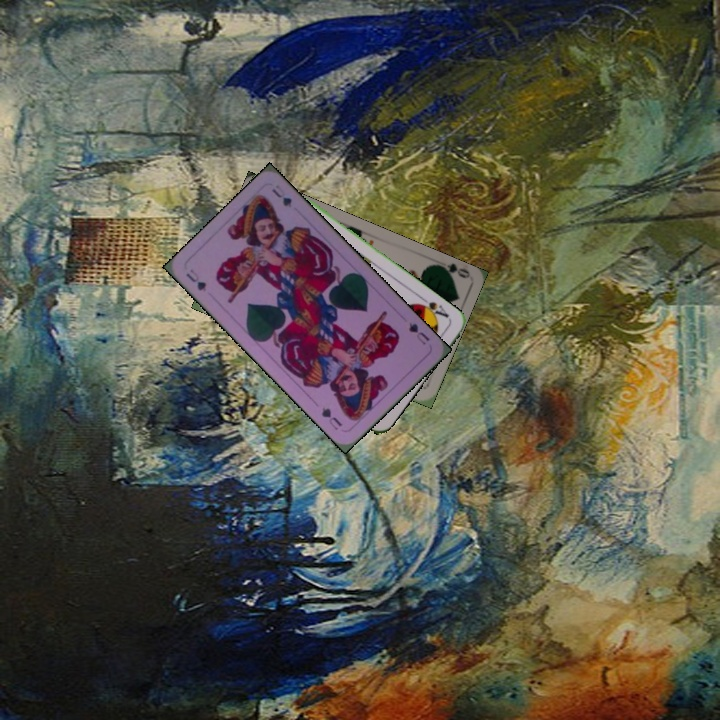GO: (430, 260, 471, 281)
GU: (404, 318, 432, 347), (182, 265, 209, 294)
SA: (413, 293, 452, 322)
